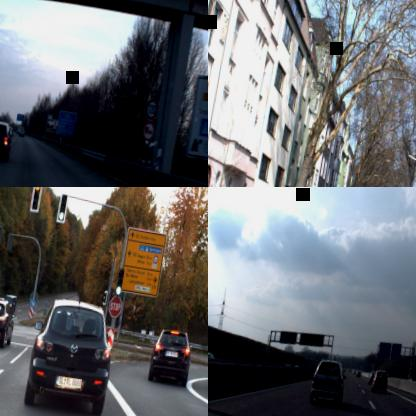STOP: (107, 295, 122, 318)
keep right: (29, 298, 36, 308)
no overtaking: (140, 118, 156, 142)
speed limit 120: (143, 96, 159, 120)
